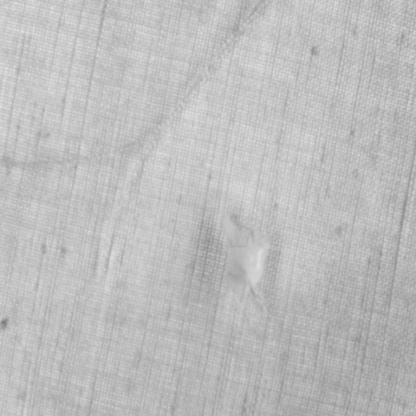objects: (0, 0, 273, 249), (223, 216, 272, 302)
